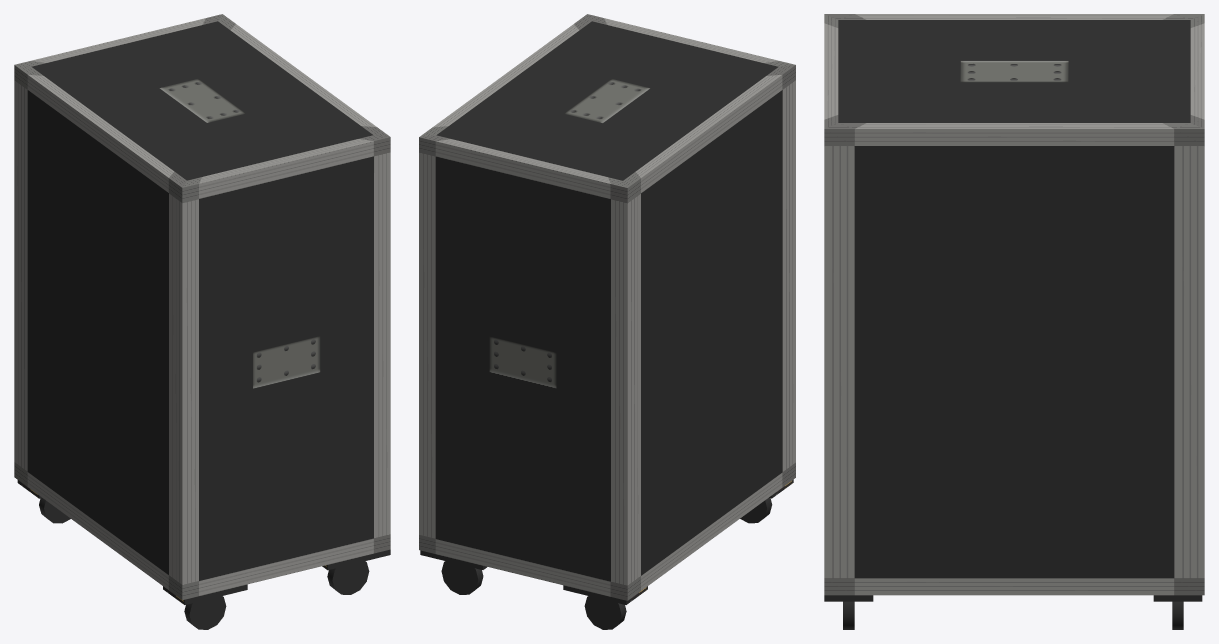
The model's file is Flight_case_3.fbx.
The picture shows the model from 3 angles, left to right: view 1: azimuth 30°, elevation 25°; view 2: azimuth 150°, elevation 25°; view 3: azimuth 270°, elevation 25°; orthographic projection. The views are drawn at different scales.
Parts seen in each view (by area): view 1: Flight_case_3; view 2: Flight_case_3; view 3: Flight_case_3.
Part boxes in pixels (x1,y1,x2,y2): Flight_case_3: (14, 14, 390, 629); Flight_case_3: (419, 14, 795, 629); Flight_case_3: (824, 14, 1204, 629).
Size of the model in its own units: 1.15 by 2.4 by 1.6.
